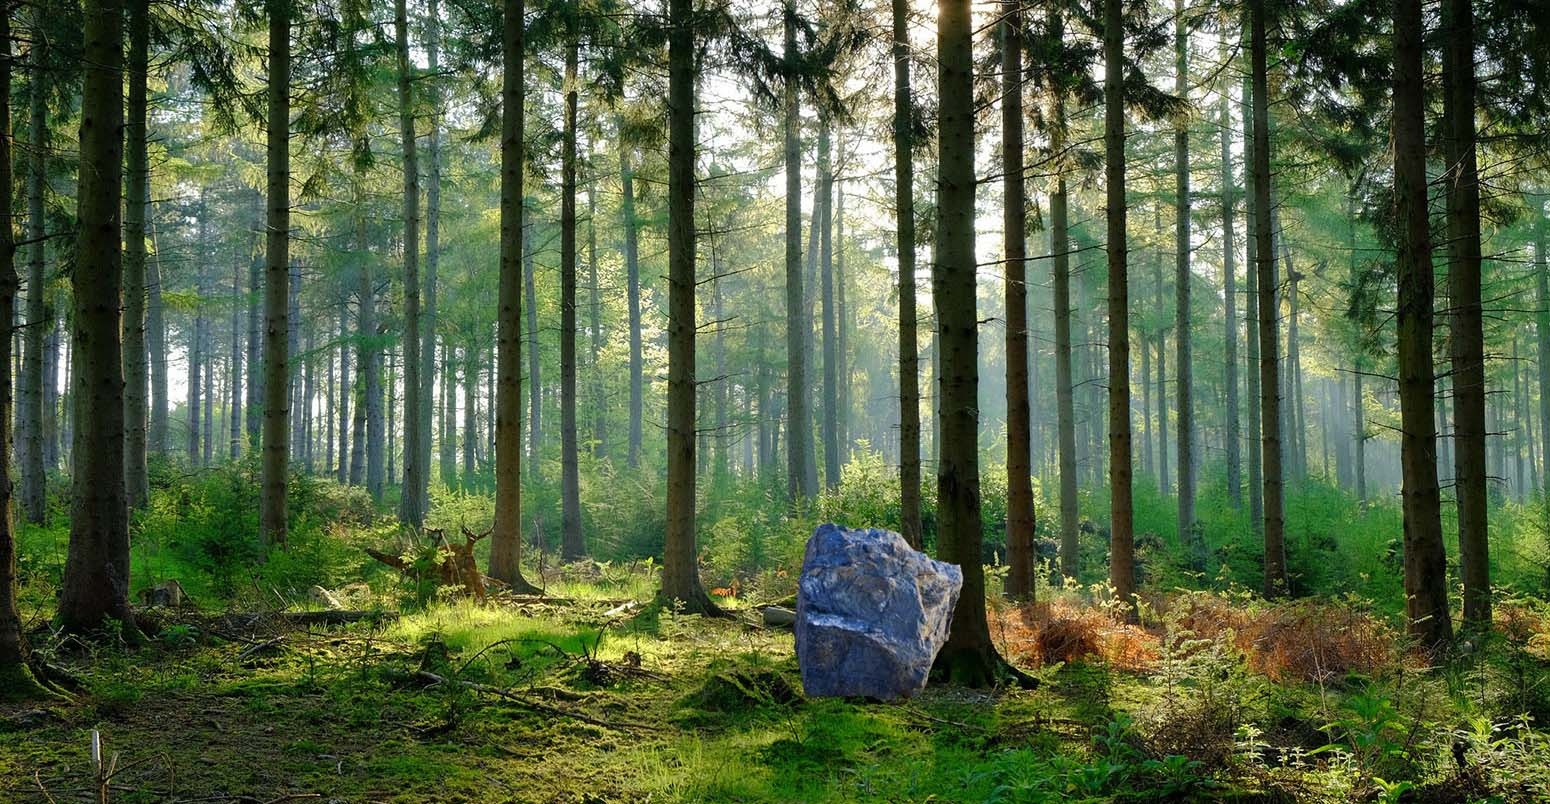Rocks: (794, 530, 966, 722)
